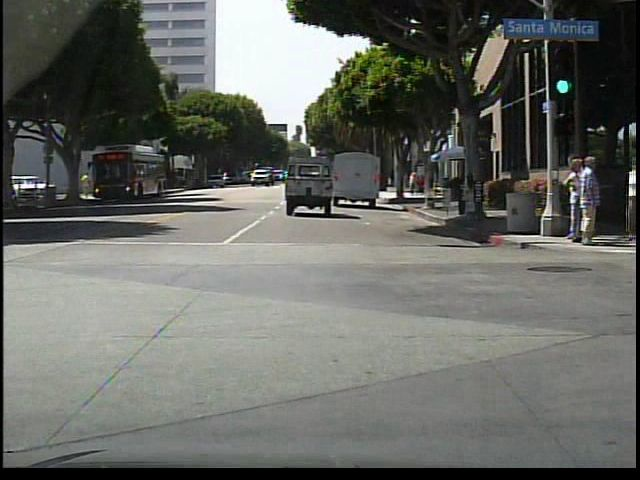person: (571, 154, 606, 253), (566, 151, 588, 246), (565, 157, 585, 245), (619, 158, 639, 240), (82, 172, 92, 201), (409, 171, 418, 196), (71, 176, 80, 201), (404, 170, 410, 197)
